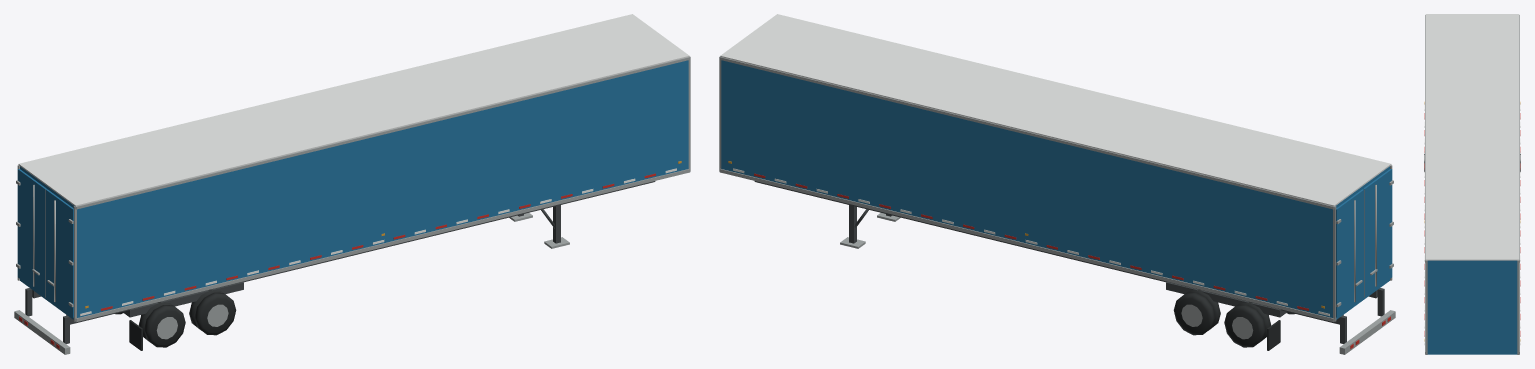
Rendered from SM_MPR3_Trailer_Blue_LOD1.fbx.
3 views of the same model, side by side, from view 1: azimuth 30°, elevation 25°; view 2: azimuth 150°, elevation 25°; view 3: azimuth 270°, elevation 25° (orthographic). The views are drawn at different scales.
Parts seen in each view (by area): view 1: SM_MPR3_Trailer_Blue_LOD1; view 2: SM_MPR3_Trailer_Blue_LOD1; view 3: SM_MPR3_Trailer_Blue_LOD1.
Part boxes in pixels (x1,y1,x2,y2): SM_MPR3_Trailer_Blue_LOD1: (14,14,690,354); SM_MPR3_Trailer_Blue_LOD1: (719,14,1395,354); SM_MPR3_Trailer_Blue_LOD1: (1424,14,1520,354).
Bounding box in the file's own units: 1639 × 267 × 417.
